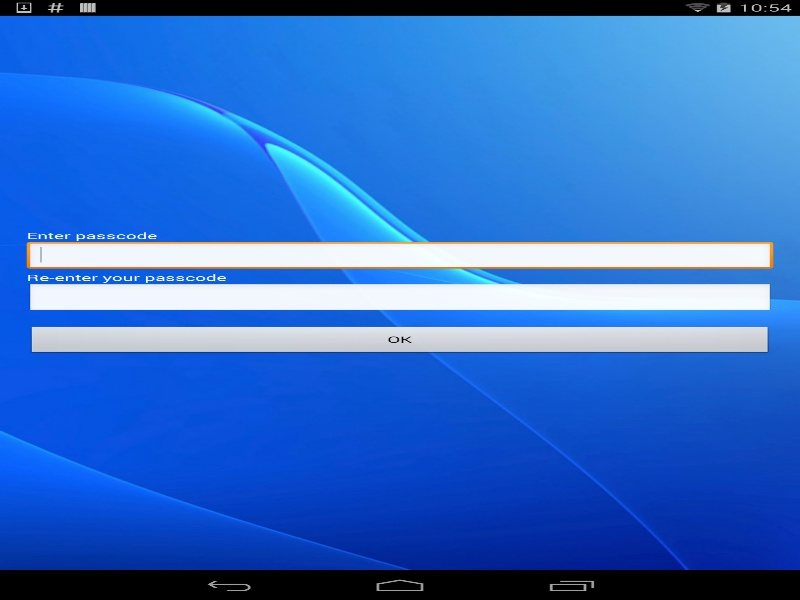Button: (26, 325, 773, 355)
Input: (26, 241, 773, 271), (26, 283, 773, 313)
